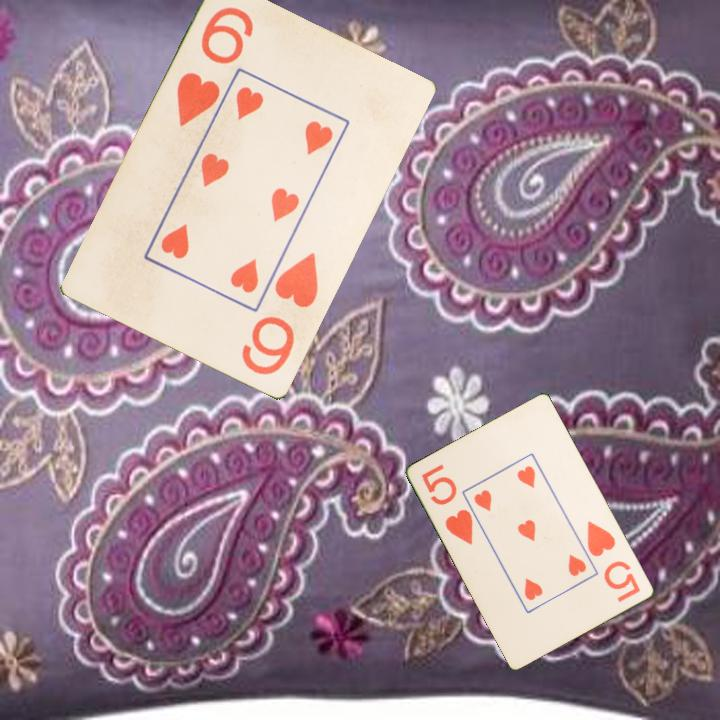5h: (584, 517, 644, 606), (418, 460, 476, 548)
6h: (238, 249, 322, 379), (173, 4, 257, 131)
